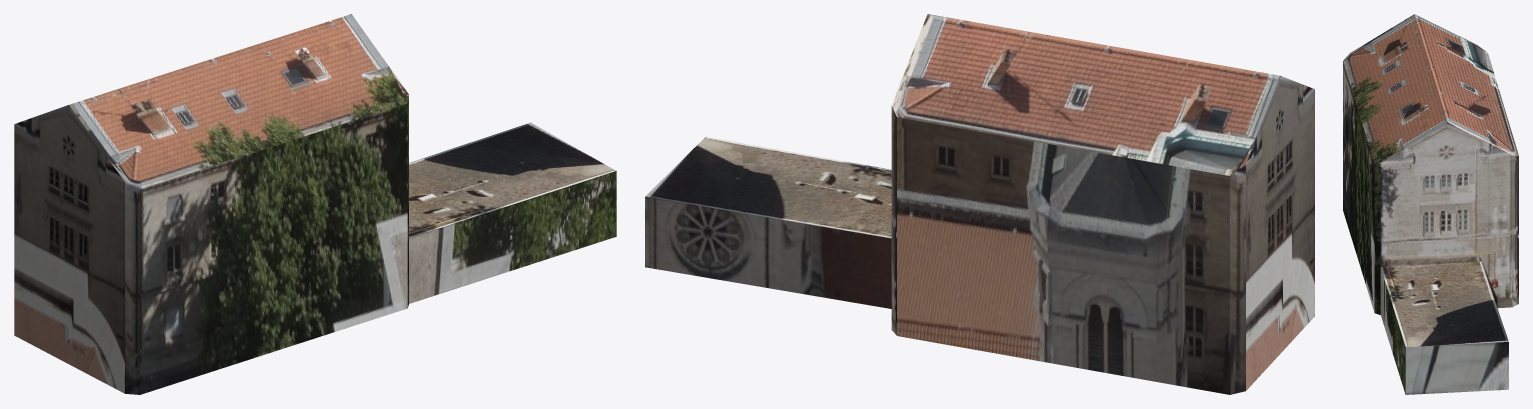
3 renders of one model, left to right at view 1: azimuth 30°, elevation 25°; view 2: azimuth 150°, elevation 25°; view 3: azimuth 270°, elevation 25°, orthographic. The views are drawn at different scales.
Visible parts, largest first — view 1: Z_UP; view 2: Z_UP; view 3: Z_UP.
Boxes of the visible parts, left/top/right/bottom form: Z_UP: left=14, top=14, right=616, bottom=394; Z_UP: left=645, top=14, right=1314, bottom=394; Z_UP: left=1343, top=14, right=1518, bottom=394.
Bounding box in the file's own units: 37.71 × 16.92 × 14.29.
2 materials, 1 textured.
